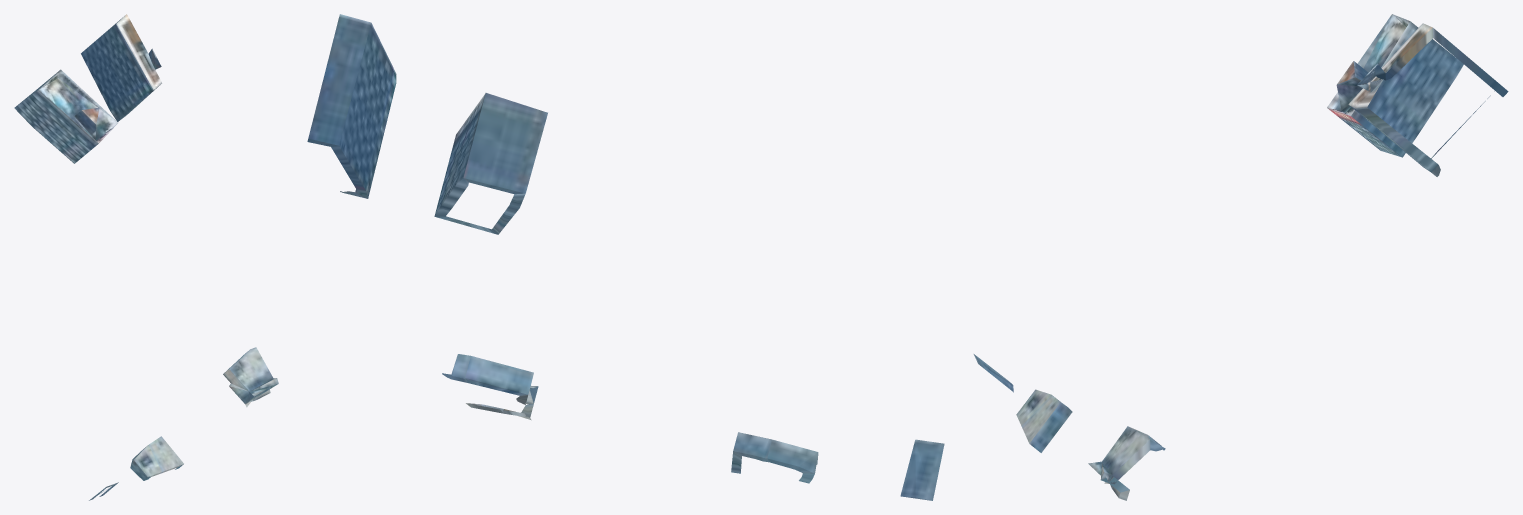
The model's file is AJVsH2xPl_XHi5_GP0dyWF0cVv4f53F3_BhpJ_w4V2dqAzV7CgLVyBE47MAvQoOrRT4QlBUFubpM0VFGLlkFN60i3k2fY2RQI4oiDifbFBjW1on_U9DdKCy5kUlHsF3LzAwjx2mgLtzjJHyvLac2BdPf5oVJWipSgQ.glb.
The picture shows the model from 3 angles, left to right: view 1: azimuth 30°, elevation 25°; view 2: azimuth 150°, elevation 25°; view 3: azimuth 270°, elevation 25°; orthographic projection. The views are drawn at different scales.
Size of the model in its own units: 164 by 236 by 237.
Materials: 1 (1 with a texture image).
